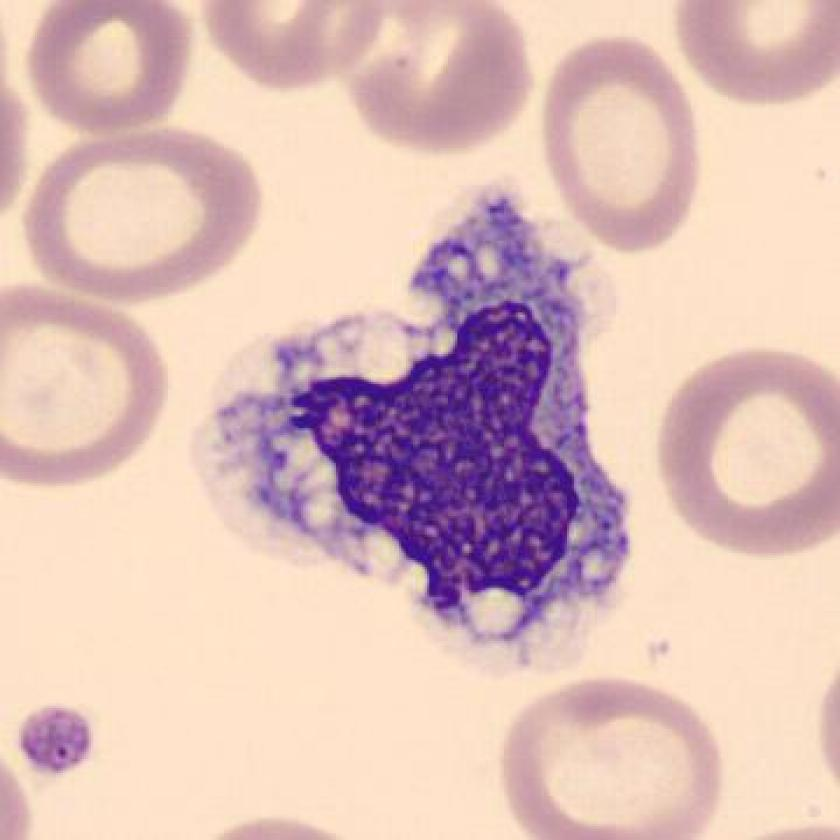monocyte: (178, 172, 652, 693)
